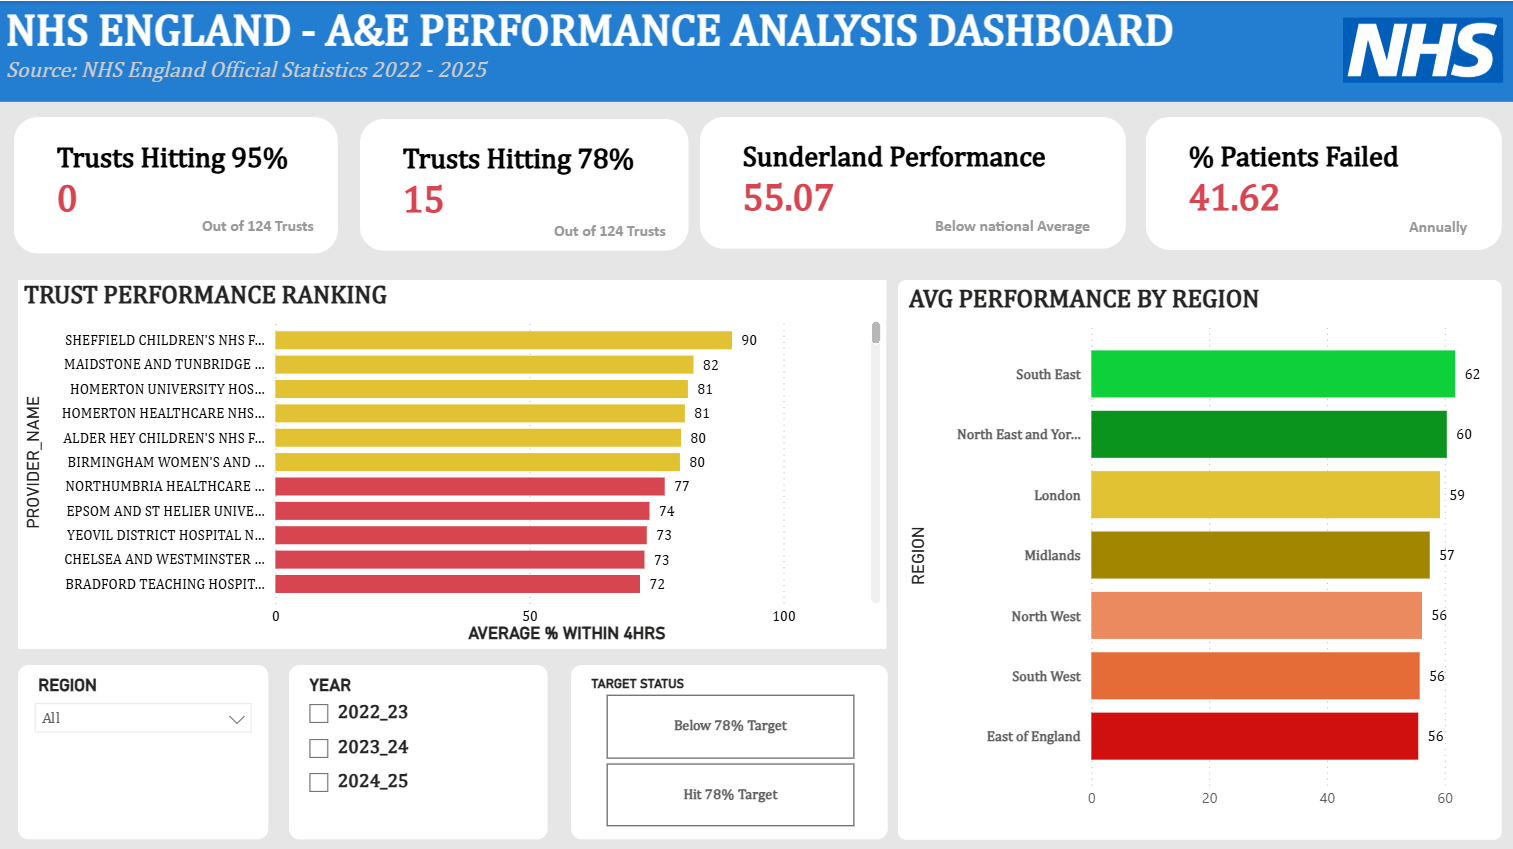

The dashboard page shown, as its layout file describes it:
{"tool":"powerbi","page":{"name":"Page 2","canvas":[1280,720],"ordinal":1},"visuals":[{"type":"textbox","box":[0,0,1280,84.7],"z":0,"group":"g1"},{"type":"cardVisual","fields":{"Data":["Nhs_dataset.Trusts Hitting 78%"]},"box":[303.6,99.2,276.9,111.3],"z":0,"group":"g11"},{"type":"clusteredBarChart","title":"AVG PERFORMANCE BY REGION","fields":{"Category":["Nhs_dataset.REGION"],"Y":["Avg(Nhs_dataset.PCT_WITHIN_4HRS)"]},"box":[757.3,235.5,508.9,471.8],"z":0},{"type":"image","box":[1132.5,11,134.9,61.2],"z":1000,"group":"g1"},{"type":"clusteredBarChart","title":"TRUST PERFORMANCE RANKING","fields":{"Y":["Avg(Nhs_dataset.PCT_WITHIN_4HRS)"],"Category":["Nhs_dataset.PROVIDER_NAME"]},"box":[15.5,235.5,732.3,310.5],"z":1000},{"type":"cardVisual","fields":{"Data":["Nhs_dataset.Trusts Hitting 95%"]},"box":[11.7,97.6,273.4,114.7],"z":2000,"group":"g6"},{"type":"slicer","fields":{"Values":["Nhs_dataset.SPAN"]},"box":[243.2,559.8,218.2,147.5],"z":2000},{"type":"slicer","fields":{"Values":["Nhs_dataset.Target Status"]},"box":[481.6,560,266.7,147.5],"z":3000},{"type":"cardVisual","fields":{"Data":["Nhs_dataset.Pct patient failed"]},"box":[966,97.5,300.2,111.8],"z":4000,"group":"g9"},{"type":"slicer","fields":{"Values":["Nhs_dataset.REGION"]},"box":[15.5,559.8,211.3,147.5],"z":4000},{"type":"group","id":"g1","title":"Group 6","box":[0,0,1280,84.7],"z":5000},{"type":"cardVisual","fields":{"Data":["Nhs_dataset.Sunderland Performance"]},"box":[590,97.5,358.8,111.3],"z":5000,"group":"g8"},{"type":"group","id":"g2","title":"Group 1","box":[966,97.5,300.2,111.8],"z":6000},{"type":"group","id":"g3","title":"Group 2","box":[590,97.5,358.8,111.3],"z":7000},{"type":"group","id":"g4","title":"Group 4","box":[11.7,97.6,273.4,114.7],"z":9000},{"type":"textbox","box":[165.5,174.7,109.5,35.4],"z":9001,"group":"g6"},{"type":"textbox","box":[461.8,178.6,106.1,30.1],"z":9002,"group":"g11"},{"type":"textbox","box":[783.2,173.9,156.1,28.5],"z":9003,"group":"g8"},{"type":"textbox","box":[1182.5,174.7,73.3,30.2],"z":9004,"group":"g9"},{"type":"group","id":"g5","title":"Group 8","box":[590,97.5,358.8,111.3],"z":9009,"group":"g3"},{"type":"group","id":"g6","title":"Group 5","box":[11.7,97.6,273.4,114.7],"z":9009,"group":"g4"},{"type":"group","id":"g7","title":"Group 7","box":[303.6,99.2,276.9,111.3],"z":9009},{"type":"group","id":"g8","title":"Group 10","box":[590,97.5,358.8,111.3],"z":9010,"group":"g5"},{"type":"group","id":"g9","title":"Group 9","box":[966,97.5,300.2,111.8],"z":9010,"group":"g2"},{"type":"group","id":"g10","title":"Group 3","box":[303.6,99.2,276.9,111.3],"z":9010,"group":"g7"},{"type":"group","id":"g11","title":"Group 11","box":[303.6,99.2,276.9,111.3],"z":9010,"group":"g10"}]}

Visuals, with their boxes in screenshot pixels (x1, y1, x2, y2), scaled from the page's 1280x720 canvas onto the 1513x849 screenshot:
textbox: [0,0,1512,100]
cardVisual - Nhs_dataset.Trusts Hitting 78%: [359,117,686,248]
"AVG PERFORMANCE BY REGION" clusteredBarChart: [895,278,1497,834]
image: [1339,13,1498,85]
"TRUST PERFORMANCE RANKING" clusteredBarChart: [18,278,884,644]
cardVisual - Nhs_dataset.Trusts Hitting 95%: [14,115,337,250]
slicer - Nhs_dataset.SPAN: [287,660,545,834]
slicer - Nhs_dataset.Target Status: [569,660,885,834]
cardVisual - Nhs_dataset.Pct patient failed: [1142,115,1497,247]
slicer - Nhs_dataset.REGION: [18,660,268,834]
"Group 6" group: [0,0,1512,100]
cardVisual - Nhs_dataset.Sunderland Performance: [697,115,1122,246]
"Group 1" group: [1142,115,1497,247]
"Group 2" group: [697,115,1122,246]
"Group 4" group: [14,115,337,250]
textbox: [196,206,325,248]
textbox: [546,211,671,246]
textbox: [926,205,1110,239]
textbox: [1398,206,1484,242]
"Group 8" group: [697,115,1122,246]
"Group 5" group: [14,115,337,250]
"Group 7" group: [359,117,686,248]
"Group 10" group: [697,115,1122,246]
"Group 9" group: [1142,115,1497,247]
"Group 3" group: [359,117,686,248]
"Group 11" group: [359,117,686,248]
